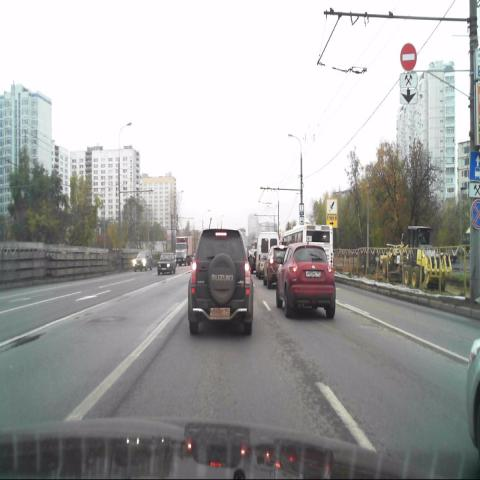8_5_2: (400, 73, 417, 88)
